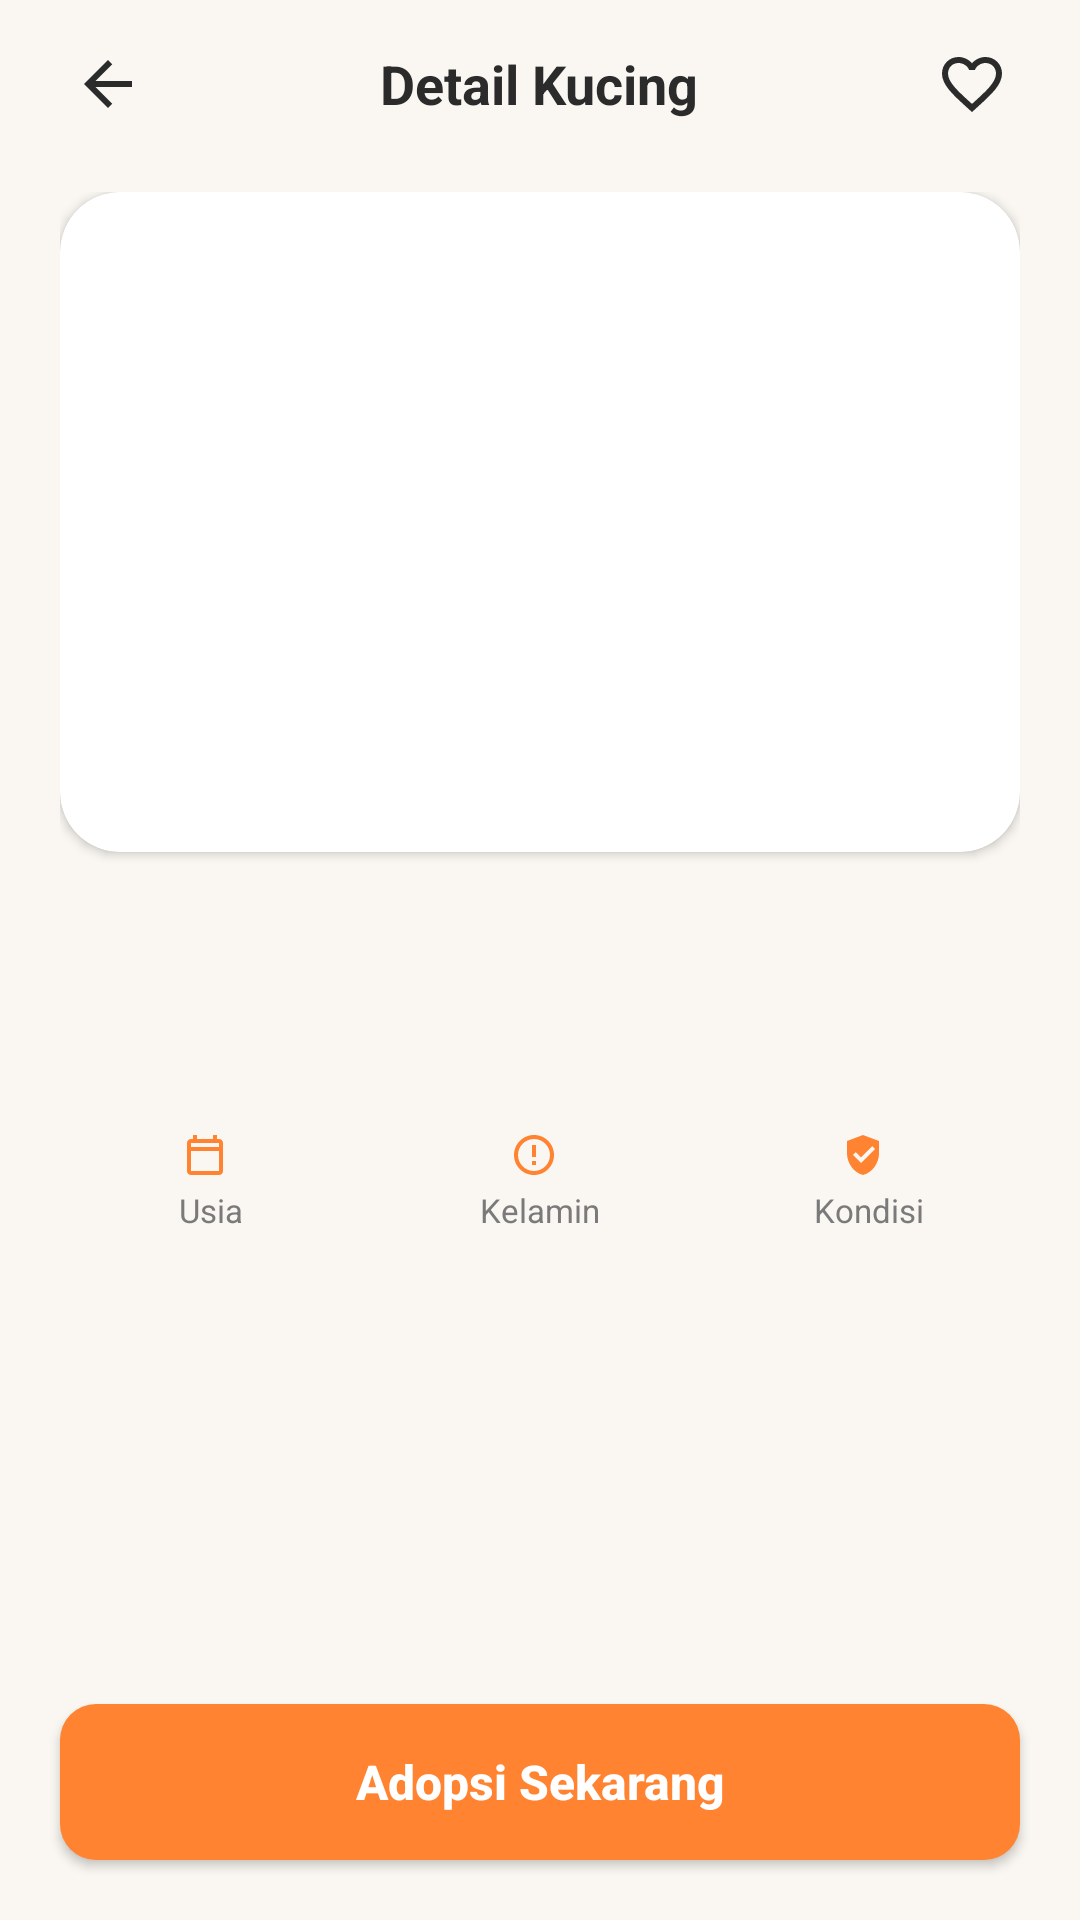

Named icons in this screenshot (1080 x 1920) and their centers, (x=x, y=y):
Back: (x=108, y=84)
calendar: (x=205, y=1155)
Favorite: (x=972, y=84)
